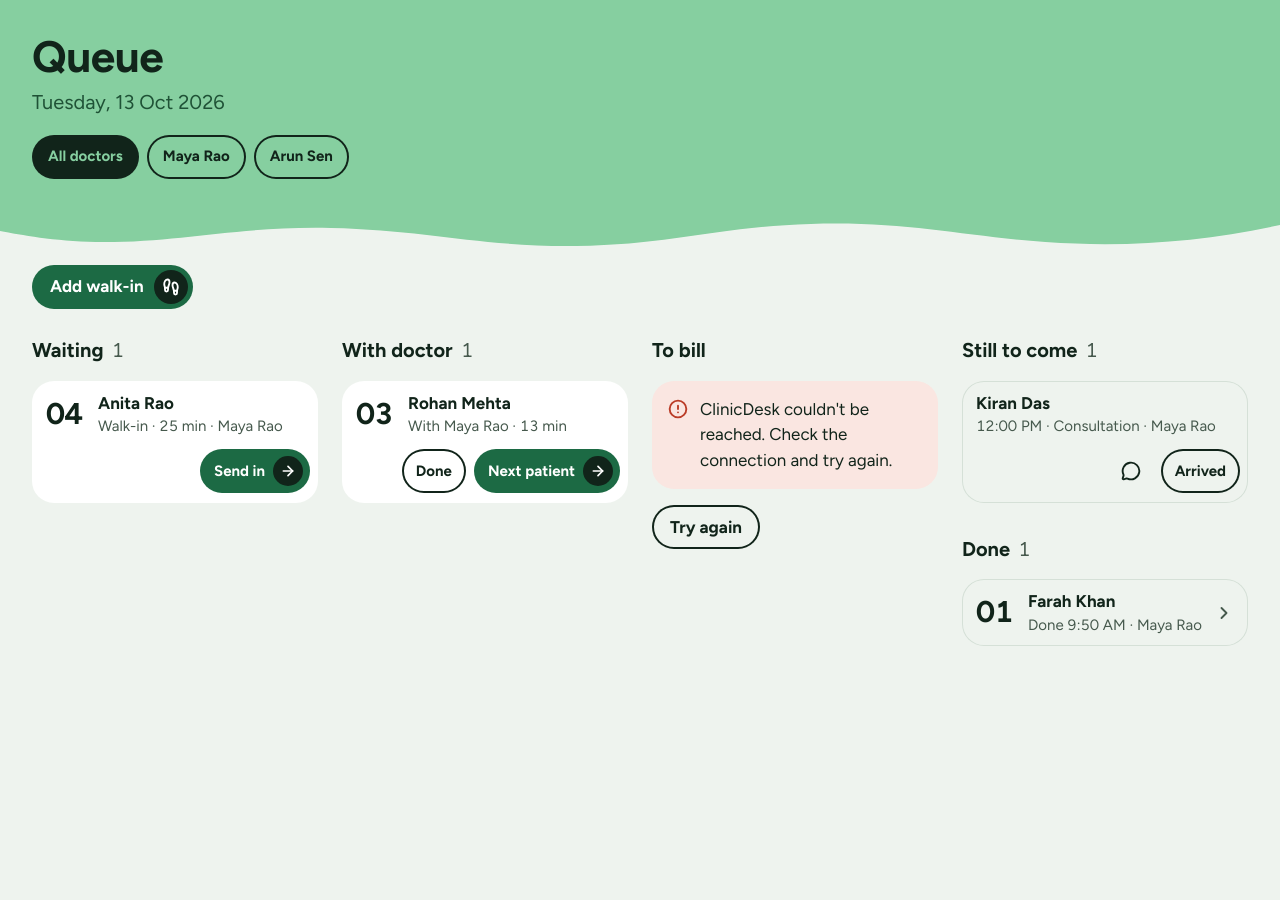
Scenario: Queue (plan §11.4; D168 – D175) › asks before sending someone in to a doctor who has someone in (D192)
Click the button with aria-label "Send Anita Rao in" at (255, 471), box [200,449,310,493]
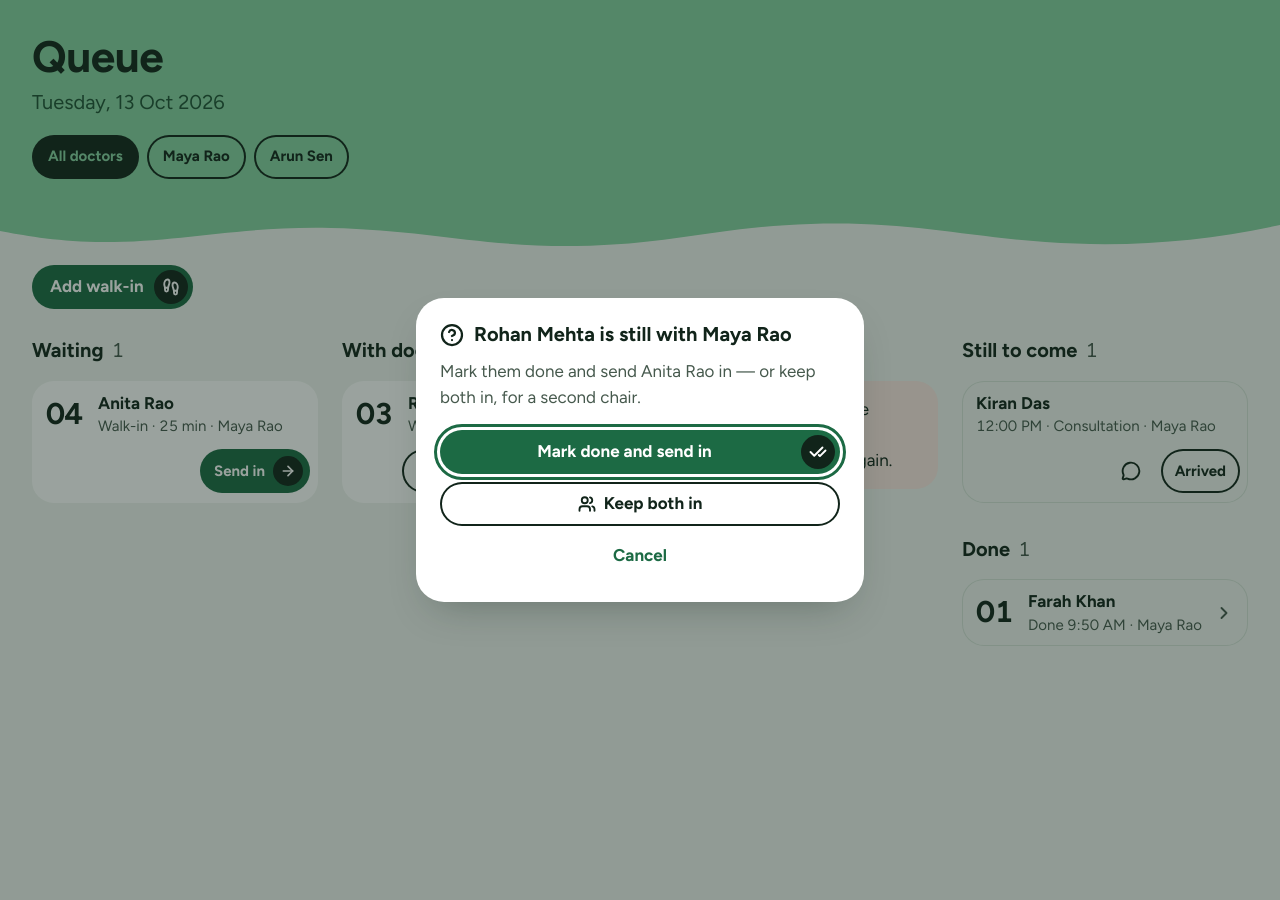
Expected: the dialog "Rohan Mehta is still with Maya Rao" is shown, [416,298,864,602]
